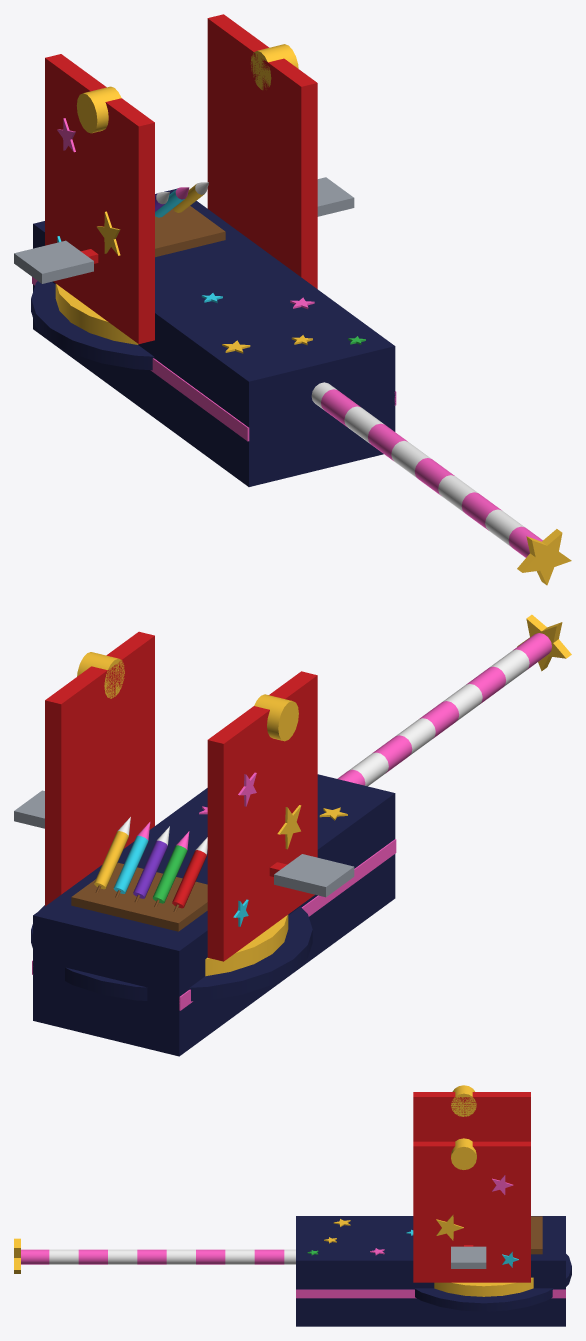
File: fireworks.obj
The picture shows the model from 3 angles, top to bottom: view 1: azimuth 30°, elevation 25°; view 2: azimuth 150°, elevation 25°; view 3: azimuth 270°, elevation 25°; orthographic projection. The views are drawn at different scales.
Visible parts, largest first — view 1: stand, turret, barrel; view 2: stand, turret, barrel; view 3: stand, turret, barrel.
Part boxes in pixels (x1,y1,x2,y2): stand: [14, 14, 354, 370]; turret: [32, 182, 396, 486]; barrel: [311, 382, 571, 585]; stand: [14, 631, 354, 1001]; turret: [32, 774, 396, 1056]; barrel: [337, 614, 571, 786]; stand: [413, 1085, 571, 1311]; turret: [296, 1216, 565, 1326]; barrel: [14, 1238, 295, 1273].
Size of the model in its own units: 1.92 by 1.77 by 4.75.
